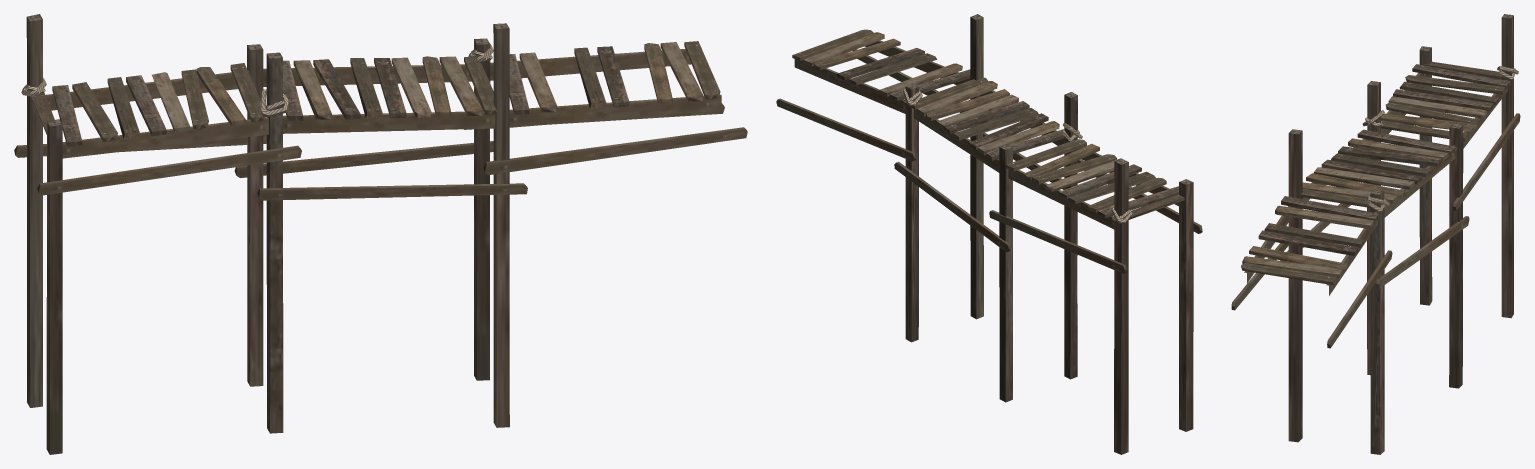
The model's file is swamp_b-map.glb.
3 views of the same model, side by side, from view 1: azimuth 30°, elevation 25°; view 2: azimuth 150°, elevation 25°; view 3: azimuth 270°, elevation 25° (orthographic). The views are drawn at different scales.
Visible parts, largest first — view 1: wooden_walkway_900_LOD0; view 2: wooden_walkway_900_LOD0; view 3: wooden_walkway_900_LOD0.
Boxes of the visible parts, box(x1,y1,x2,y2) form: wooden_walkway_900_LOD0: box(14, 14, 747, 454); wooden_walkway_900_LOD0: box(776, 14, 1202, 454); wooden_walkway_900_LOD0: box(1231, 14, 1520, 454).
Size of the model in its own units: 9.63 by 5.84 by 4.97.
2 materials, 2 textured.
